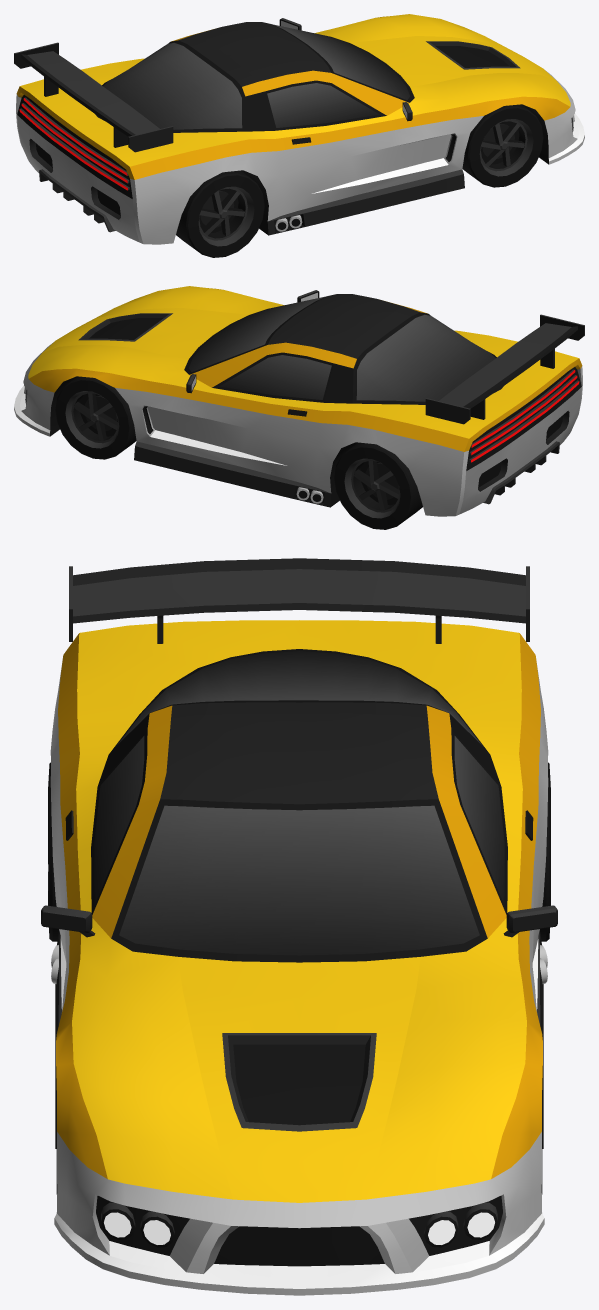
The model's file is RaceCar_081.glb.
The picture shows the model from 3 angles, top to bottom: view 1: azimuth 30°, elevation 25°; view 2: azimuth 150°, elevation 25°; view 3: azimuth 270°, elevation 25°; orthographic projection. The views are drawn at different scales.
Parts seen in each view (by area): view 1: RaceCar_081, wheel_3_RaceCar_081_Wheel_2R, wheel_1_RaceCar_081_Wheel_1R; view 2: RaceCar_081, wheel_2_RaceCar_081_Wheel_2L, wheel_0_RaceCar_081_Wheel_1L; view 3: RaceCar_081.
Part boxes in pixels (x1,y1,x2,y2): RaceCar_081: (14,14,584,244); wheel_3_RaceCar_081_Wheel_2R: (176,170,264,257); wheel_1_RaceCar_081_Wheel_1R: (462,104,543,187); RaceCar_081: (14,286,584,516); wheel_2_RaceCar_081_Wheel_2L: (334,442,422,529); wheel_0_RaceCar_081_Wheel_1L: (55,376,136,459); RaceCar_081: (41,558,557,1295).
Bounding box in the file's own units: 4.44 × 1.23 × 2.02.
2 materials, 2 textured.
